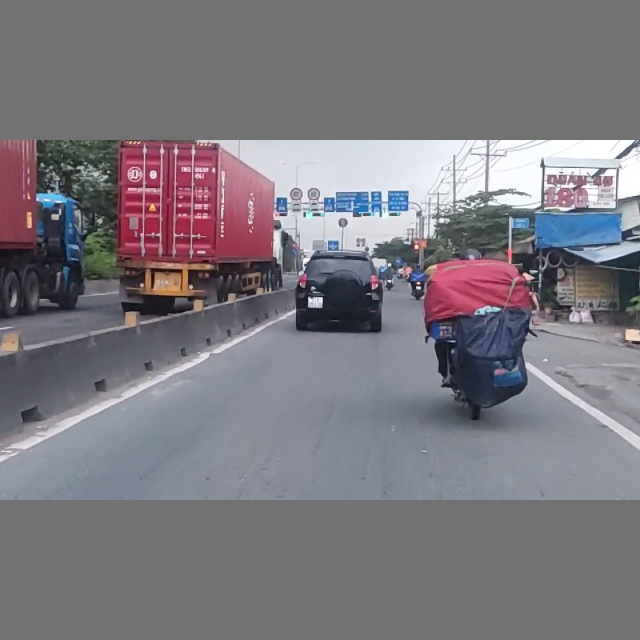P.102: (291, 242, 297, 248)
P.127*60: (307, 187, 321, 201)
P.127*80: (290, 188, 303, 200)
R.302a: (291, 249, 297, 254)
